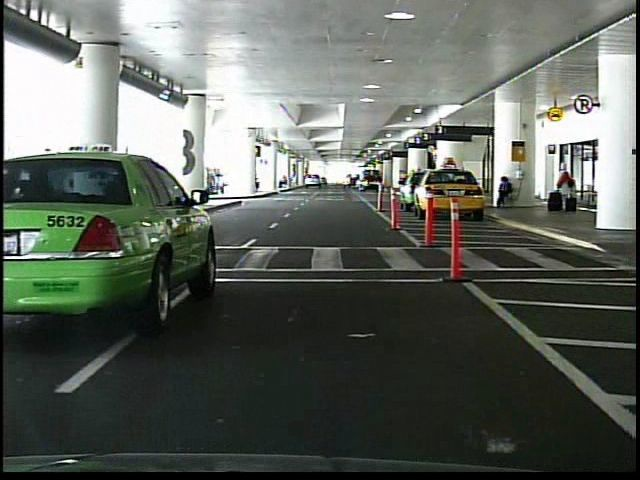person: (37, 146, 64, 232), (556, 164, 579, 214), (494, 174, 515, 208)
